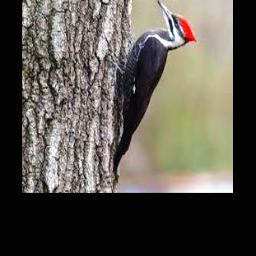Woodpecker: (109, 0, 198, 181)
